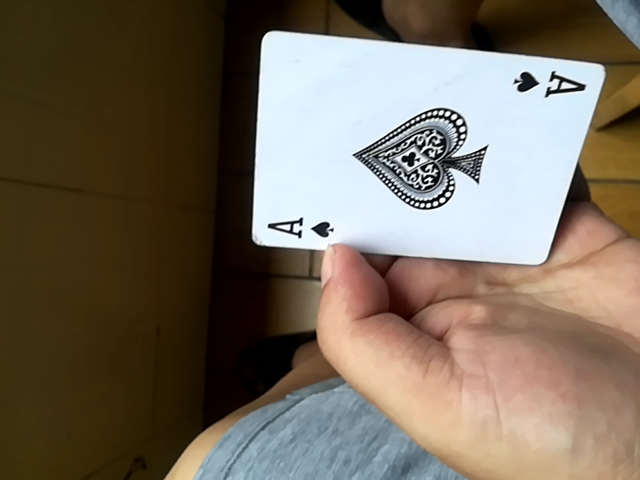ht a: (252, 29, 603, 271)
